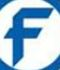Fisher: (4, 6, 55, 68)
